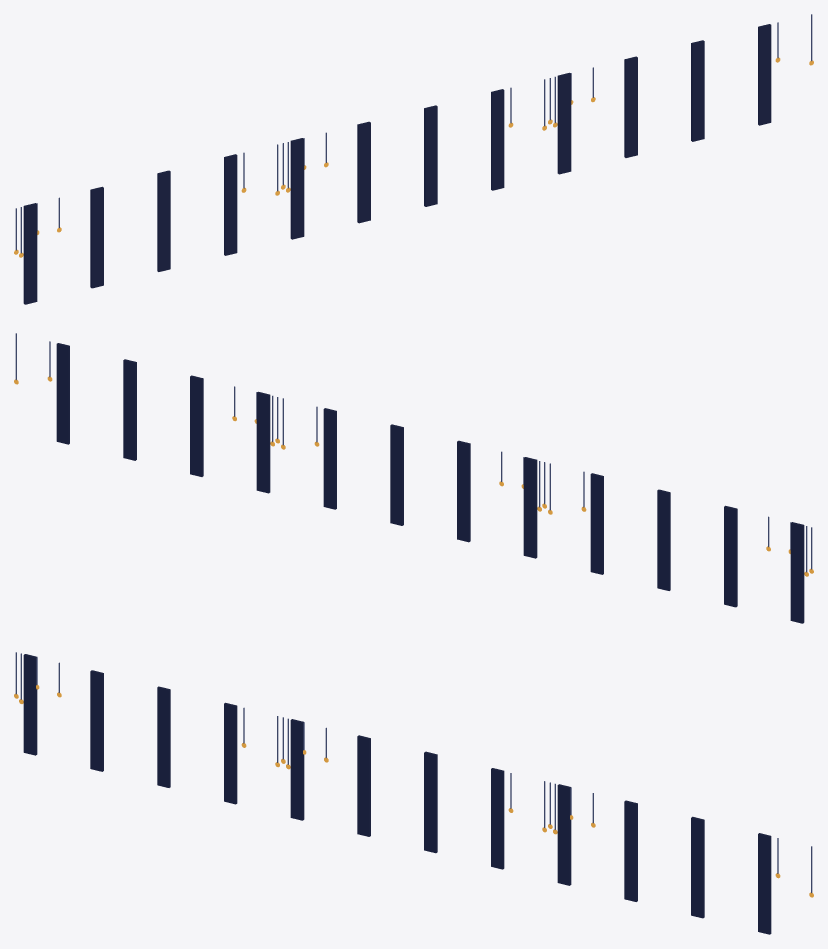
The model's file is abbey_mid.glb.
3 views of the same model, one above another, from view 1: azimuth 30°, elevation 25°; view 2: azimuth 150°, elevation 25°; view 3: azimuth 330°, elevation 25° (orthographic).
Visible parts, largest first — view 1: Cube, Cube.002, Cube.001, Cube.003, Cube.004, Cube.006, Cube.007, Cube.009, Cube.008, Cube.010, Cube.011, Cube.005; view 2: Cube, Cube.002, Cube.001, Cube.003, Cube.004, Cube.006, Cube.007, Cube.009, Cube.008, Cube.010, Cube.011, Cube.005; view 3: Cube, Cube.002, Cube.001, Cube.003, Cube.005, Cube.007, Cube.011, Cube.004, Cube.006, Cube.008, Cube.009, Cube.010.
Part boxes in pixels (x1,y1,x2,y2): Cube: (23, 203, 37, 304); Cube.002: (557, 72, 571, 174); Cube.001: (290, 138, 304, 239); Cube.003: (90, 186, 103, 288); Cube.004: (357, 121, 370, 223); Cube.006: (157, 170, 170, 271); Cube.007: (424, 105, 437, 206); Cube.009: (224, 154, 237, 255); Cube.008: (691, 40, 704, 141); Cube.010: (491, 89, 504, 190); Cube.011: (758, 24, 771, 125); Cube.005: (624, 56, 637, 157); Cube: (790, 522, 804, 623); Cube.002: (256, 391, 270, 493); Cube.001: (523, 457, 537, 558); Cube.003: (724, 505, 737, 607); Cube.004: (457, 440, 470, 542); Cube.006: (657, 489, 670, 590); Cube.007: (390, 424, 403, 525); Cube.009: (590, 473, 603, 574); Cube.008: (123, 359, 136, 460); Cube.010: (323, 408, 336, 509); Cube.011: (56, 343, 69, 444); Cube.005: (190, 375, 203, 476); Cube: (23, 654, 37, 755); Cube.002: (557, 784, 571, 885); Cube.001: (290, 719, 304, 820); Cube.003: (90, 670, 103, 771); Cube.005: (624, 800, 637, 901); Cube.007: (424, 751, 437, 853); Cube.011: (758, 833, 771, 934); Cube.004: (357, 735, 370, 836); Cube.006: (157, 686, 170, 787); Cube.008: (691, 816, 704, 918); Cube.009: (224, 702, 237, 804); Cube.010: (491, 768, 504, 869).
Size of the model in its own units: 59.93 by 7 by 0.2.
